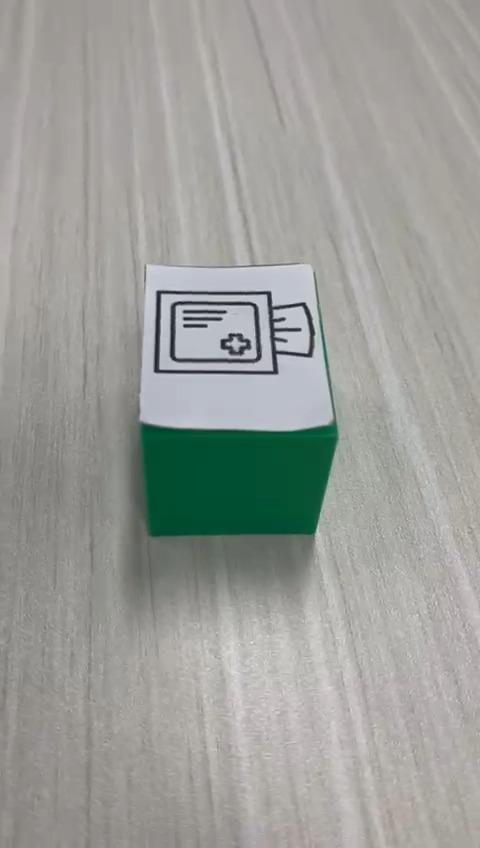Gauze: (137, 261, 339, 537)
